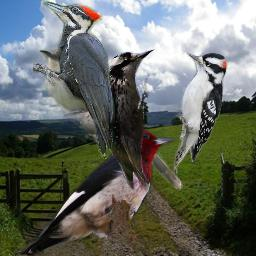Cuckoo: (38, 49, 183, 190)
Woodpecker: (11, 126, 181, 256), (33, 0, 120, 159), (89, 42, 159, 197), (173, 47, 232, 174)
